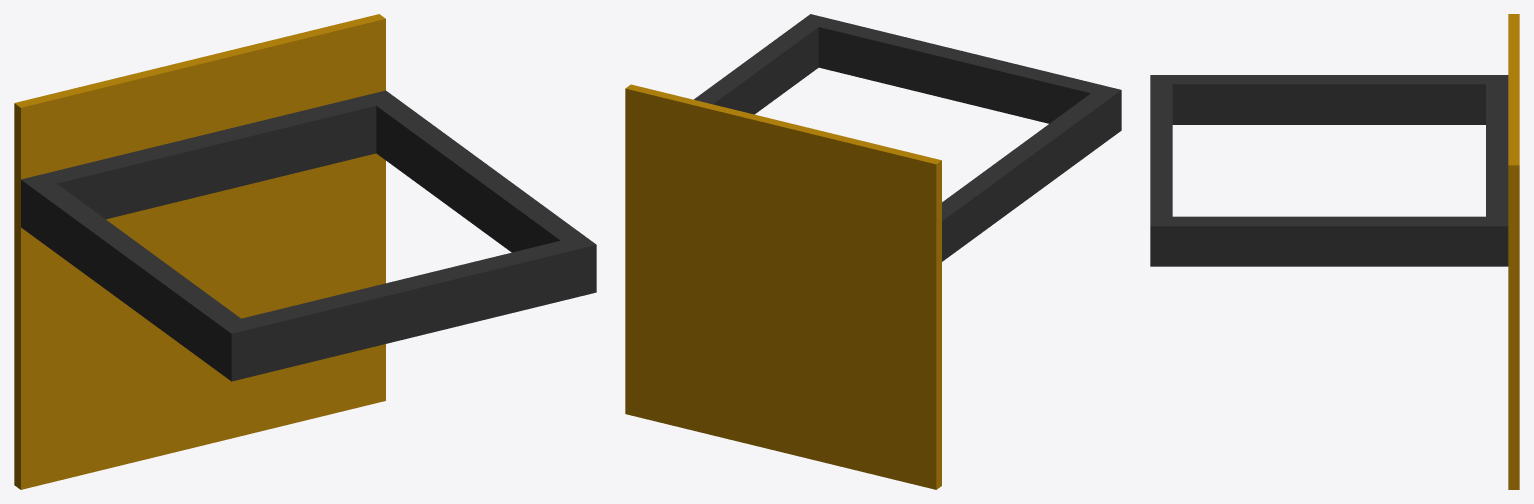
The model's file is mask.gltf.
3 views of the same model, side by side, from view 1: azimuth 30°, elevation 25°; view 2: azimuth 150°, elevation 25°; view 3: azimuth 270°, elevation 25° (orthographic). The views are drawn at different scales.
Parts seen in each view (by area): view 1: mesh (×5); view 2: mesh (×4); view 3: mesh (×5).
Part boxes in pixels (bbox=[...]): mesh (×5): bbox=[14, 14, 596, 489]; mesh (×4): bbox=[625, 14, 1121, 489]; mesh (×5): bbox=[1150, 14, 1519, 489].
Bounding box in the file's own units: 1 × 1 × 1.03.
1 material, 1 textured.
